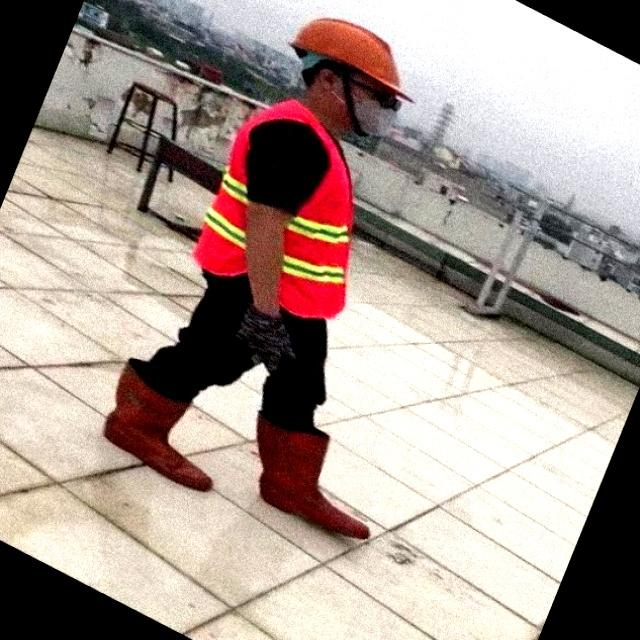Capacete: (290, 18, 412, 101)
Colete: (193, 99, 353, 318)
Oculos: (351, 78, 401, 111)
